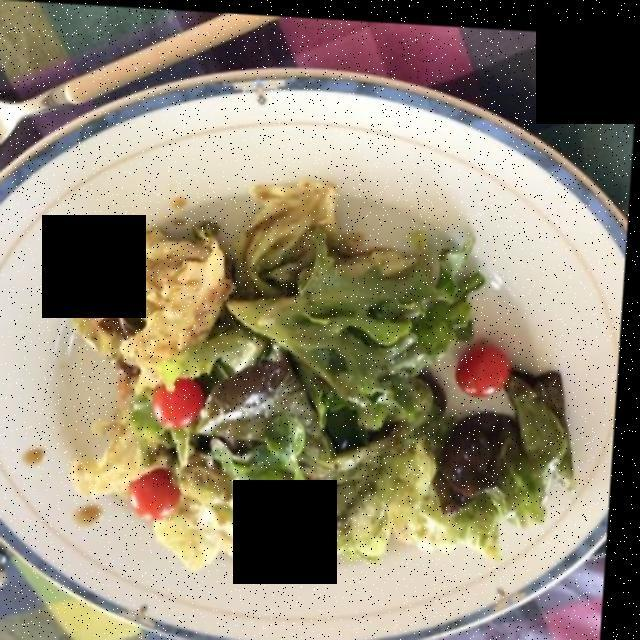salad: (75, 188, 572, 571)
tomato: (134, 356, 434, 530)
